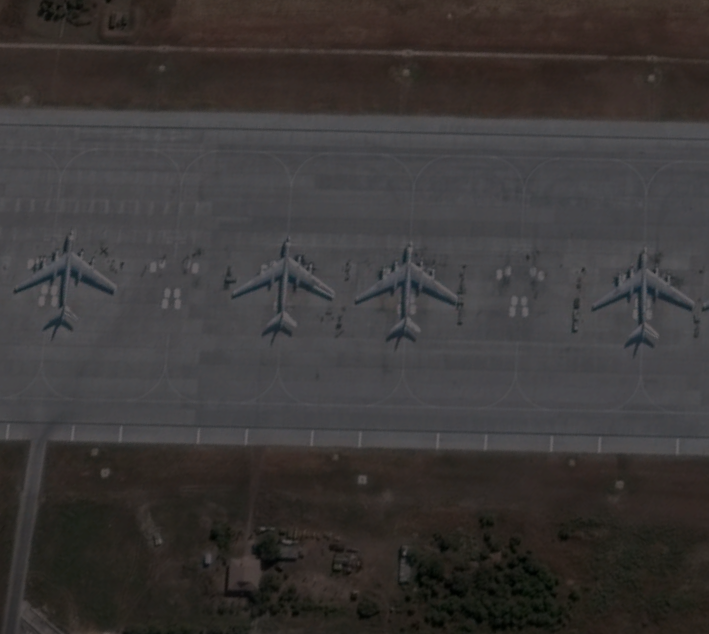A17: (12, 212, 125, 337), (225, 229, 338, 344), (351, 227, 464, 342), (586, 240, 699, 355)
